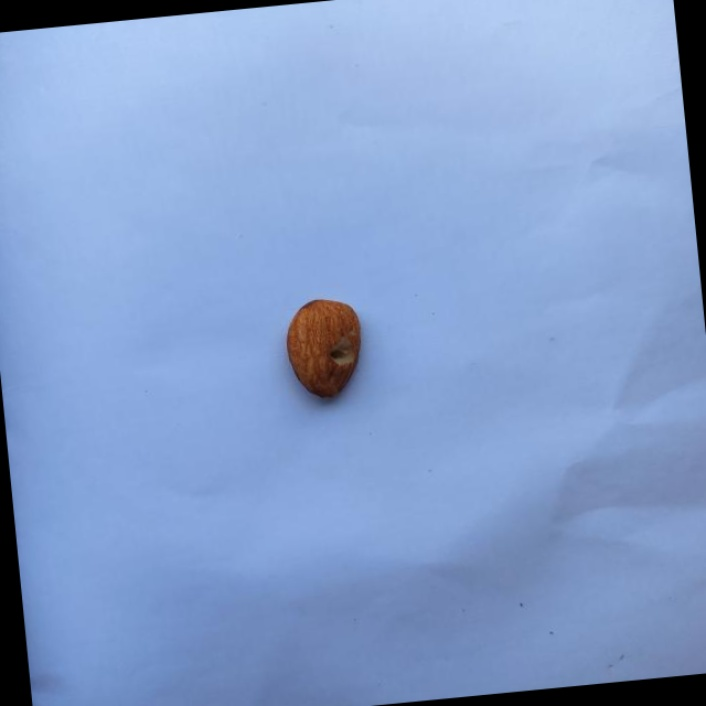grade3: (280, 291, 373, 407)
